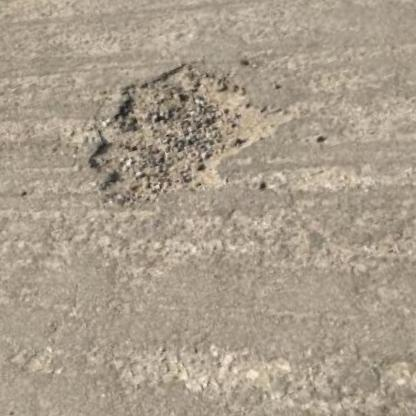pothole: (62, 29, 309, 230)
